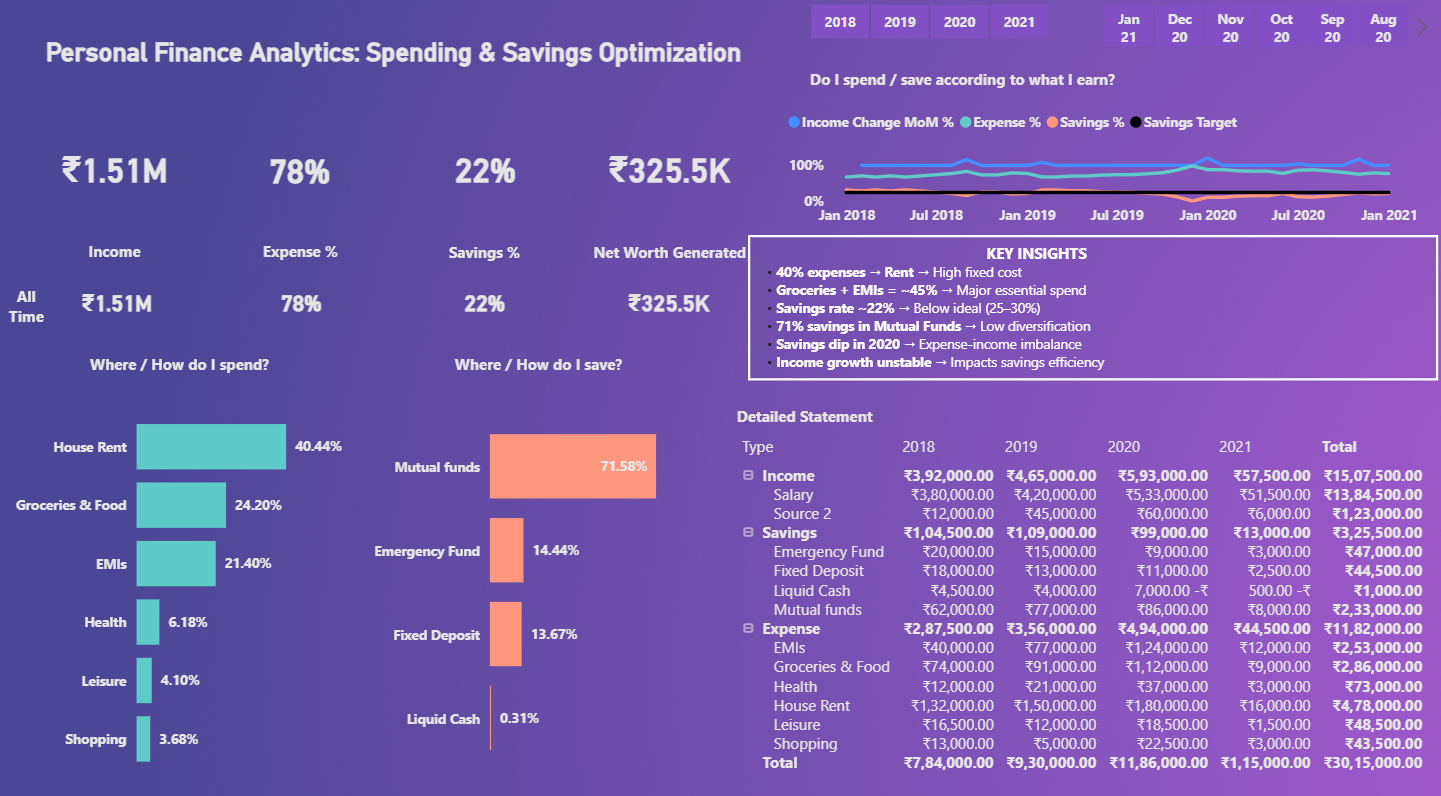

The dashboard page shown, as its layout file describes it:
{"tool":"powerbi","page":{"name":"Dashboard","canvas":[1280,720],"ordinal":0},"visuals":[{"type":"card","fields":{"Values":["Measure(s).Total Income"]},"box":[24.3,97.3,160.5,120],"z":0,"group":"g1"},{"type":"card","fields":{"Values":["Measure(s).Total Income"]},"box":[46,257,120,40],"z":0},{"type":"group","id":"g1","title":"Group 1","box":[24.3,97.3,653,156],"z":1000},{"type":"card","fields":{"Values":["Measure(s).Expense %"]},"box":[188.7,97.3,160.5,120.6],"z":1000,"group":"g1"},{"type":"slicer","fields":{"Values":["FinData.Year"]},"box":[696,5,260,44],"z":2000},{"type":"card","fields":{"Values":["Measure(s).Savings %"]},"box":[353.1,97.3,160,120],"z":2000,"group":"g1"},{"type":"slicer","fields":{"Values":["FinData.Date"]},"box":[956,5,319,44],"z":3000},{"type":"card","fields":{"Values":["Measure(s).Total Savings"]},"box":[516.5,97.3,160,120],"z":3000,"group":"g1"},{"type":"textbox","box":[24.3,216.9,160.5,35],"z":4000,"group":"g1"},{"type":"card","fields":{"Values":["Measure(s).Expense %"]},"box":[209,257,121,40],"z":4000},{"type":"textbox","box":[189.6,216.9,160.5,35],"z":5000,"group":"g1"},{"type":"card","fields":{"Values":["Measure(s).Savings %"]},"box":[372,257,120,40],"z":5000},{"type":"textbox","box":[352.1,217.9,160.5,35],"z":6000,"group":"g1"},{"type":"card","fields":{"Values":["Measure(s).Total Savings"]},"box":[536,257,120,40],"z":6000},{"type":"textbox","box":[516.3,218.3,161,35],"z":7000,"group":"g1"},{"type":"textbox","box":[0,257,52,48],"z":7000},{"type":"card","fields":{"Values":["Measure(s).Title"]},"box":[26,5,652,96],"z":8000},{"type":"clusteredBarChart","fields":{"Category":["FinData.Component"],"Y":["Measure(s).Total Expense"]},"box":[10,350,304,360],"z":9000},{"type":"clusteredBarChart","fields":{"Category":["FinData.Component"],"Y":["Measure(s).Total Savings"]},"box":[328,350,304,360],"z":10000},{"type":"lineChart","fields":{"Y":["Measure(s).Income Change MoM %","Measure(s).Expense %","Measure(s).Savings %","Measure(s).Savings Target"],"Category":["FinData.Date"]},"box":[696,97,568,120],"z":11000},{"type":"pivotTable","fields":{"Columns":["FinData.Year","FinData.Date"],"Values":["Measure(s).Values"],"Rows":["Type.Type","FinData.Component"]},"box":[651,390,624,320],"z":12000},{"type":"textbox","box":[10,317,304,28],"z":13000},{"type":"textbox","box":[328,317,304,28],"z":14000},{"type":"textbox","box":[696,65,320,28],"z":15000},{"type":"textbox","box":[650.8,363.5,320.1,27.5],"z":16000},{"type":"textbox","box":[665.9,216.4,612,129.5],"z":16001}]}

Visuals, with their boxes in screenshot pixels (x1, y1, x2, y2), scaled from the page's 1280x720 canvas onto the 1441x796 screenshot:
card - Measure(s).Total Income: (x1=27, y1=108, x2=208, y2=240)
card - Measure(s).Total Income: (x1=52, y1=284, x2=187, y2=328)
"Group 1" group: (x1=27, y1=108, x2=762, y2=280)
card - Measure(s).Expense %: (x1=212, y1=108, x2=393, y2=241)
slicer - FinData.Year: (x1=784, y1=6, x2=1076, y2=54)
card - Measure(s).Savings %: (x1=398, y1=108, x2=578, y2=240)
slicer - FinData.Date: (x1=1076, y1=6, x2=1435, y2=54)
card - Measure(s).Total Savings: (x1=581, y1=108, x2=762, y2=240)
textbox: (x1=27, y1=240, x2=208, y2=278)
card - Measure(s).Expense %: (x1=235, y1=284, x2=372, y2=328)
textbox: (x1=213, y1=240, x2=394, y2=278)
card - Measure(s).Savings %: (x1=419, y1=284, x2=554, y2=328)
textbox: (x1=396, y1=241, x2=577, y2=280)
card - Measure(s).Total Savings: (x1=603, y1=284, x2=739, y2=328)
textbox: (x1=581, y1=241, x2=762, y2=280)
textbox: (x1=0, y1=284, x2=59, y2=337)
card - Measure(s).Title: (x1=29, y1=6, x2=763, y2=112)
clusteredBarChart - FinData.Component x Measure(s).Total Expense: (x1=11, y1=387, x2=353, y2=785)
clusteredBarChart - FinData.Component x Measure(s).Total Savings: (x1=369, y1=387, x2=711, y2=785)
lineChart - Measure(s).Income Change MoM % x Measure(s).Expense %: (x1=784, y1=107, x2=1423, y2=240)
pivotTable - FinData.Year x FinData.Date: (x1=733, y1=431, x2=1435, y2=785)
textbox: (x1=11, y1=350, x2=353, y2=381)
textbox: (x1=369, y1=350, x2=711, y2=381)
textbox: (x1=784, y1=72, x2=1144, y2=103)
textbox: (x1=733, y1=402, x2=1093, y2=432)
textbox: (x1=750, y1=239, x2=1439, y2=382)
